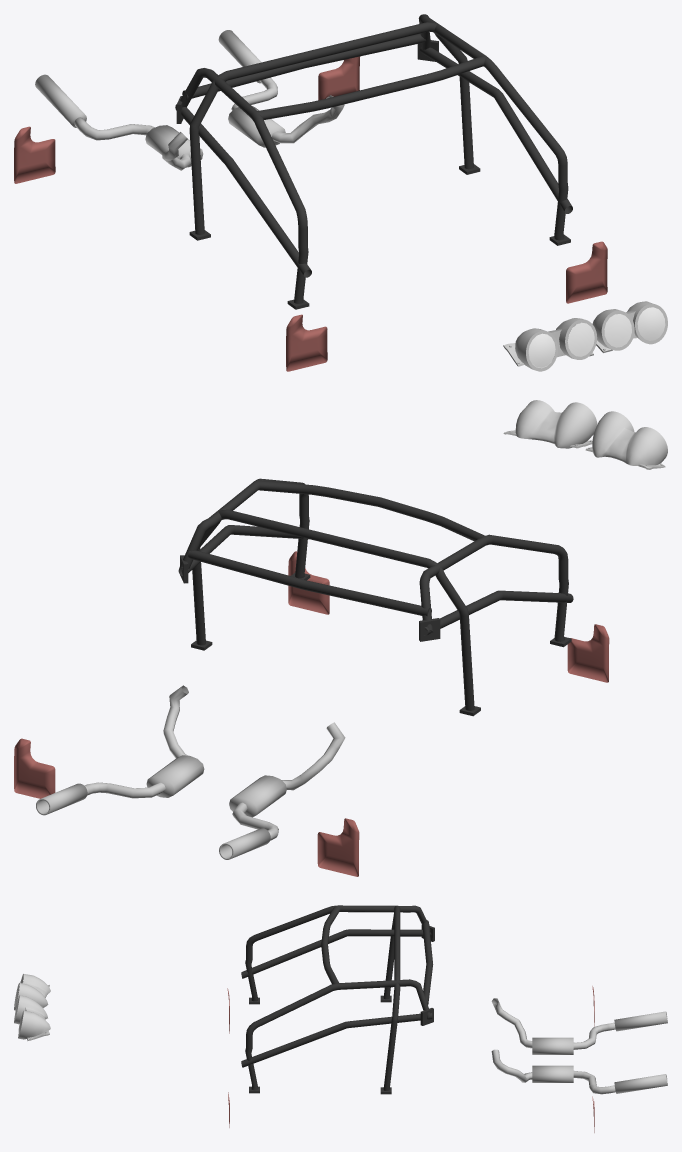
File: super_rallyparts_AEP.dae
3 views of the same model, one above another, from view 1: azimuth 30°, elevation 25°; view 2: azimuth 150°, elevation 25°; view 3: azimuth 270°, elevation 25° (orthographic). The views are drawn at different scales.
Visible parts, largest first — view 1: super_rollcage_AEP, super_exhaust_big_AEP, super_mudflap_R_AEP, super_mudflap_FR_AEP, super_mudflap_FL_AEP, super_rallylights_R_AEP, super_rallylights_glass_L_AEP, super_rallylights_glass_R_AEP, super_rallylights_L_AEP; view 2: super_rollcage_AEP, super_exhaust_big_AEP, super_mudflap_R_AEP, super_rallylights_L_AEP, super_rallylights_R_AEP, super_mudflap_FR_AEP, super_mudflap_FL_AEP; view 3: super_rollcage_AEP, super_exhaust_big_AEP, super_rallylights_L_AEP, super_rallylights_R_AEP.
Part boxes in pixels (x1,y1,x2,y2): super_rollcage_AEP: (175,14,572,309); super_exhaust_big_AEP: (35,30,344,170); super_mudflap_R_AEP: (14,56,360,183); super_mudflap_FR_AEP: (286,314,327,371); super_mudflap_FL_AEP: (566,241,607,303); super_rallylights_R_AEP: (503,318,597,371); super_rallylights_glass_L_AEP: (604,307,665,347); super_rallylights_glass_R_AEP: (528,322,594,367); super_rallylights_L_AEP: (592,301,667,352); super_rollcage_AEP: (178,478,573,716); super_exhaust_big_AEP: (36,685,345,859); super_mudflap_R_AEP: (14,738,359,876); super_rallylights_L_AEP: (503,400,597,448); super_rallylights_R_AEP: (585,411,667,469); super_mudflap_FR_AEP: (567,624,609,682); super_mudflap_FL_AEP: (288,551,329,614); super_rollcage_AEP: (241,905,434,1094); super_exhaust_big_AEP: (491,998,667,1094); super_rallylights_L_AEP: (14,995,50,1040); super_rallylights_R_AEP: (14,974,50,1010).
Size of the model in its own units: 1.86 by 4.38 by 1.02.
